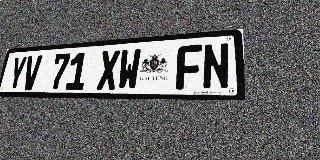1: (65, 52, 88, 90)
7: (48, 53, 71, 90)
F: (176, 44, 202, 90)
N: (202, 42, 230, 90)
V: (21, 55, 43, 90)
W: (117, 48, 141, 90)
X: (96, 50, 120, 90)
Y: (7, 56, 28, 90)
